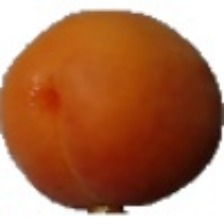apricot: (20, 48, 217, 198)
